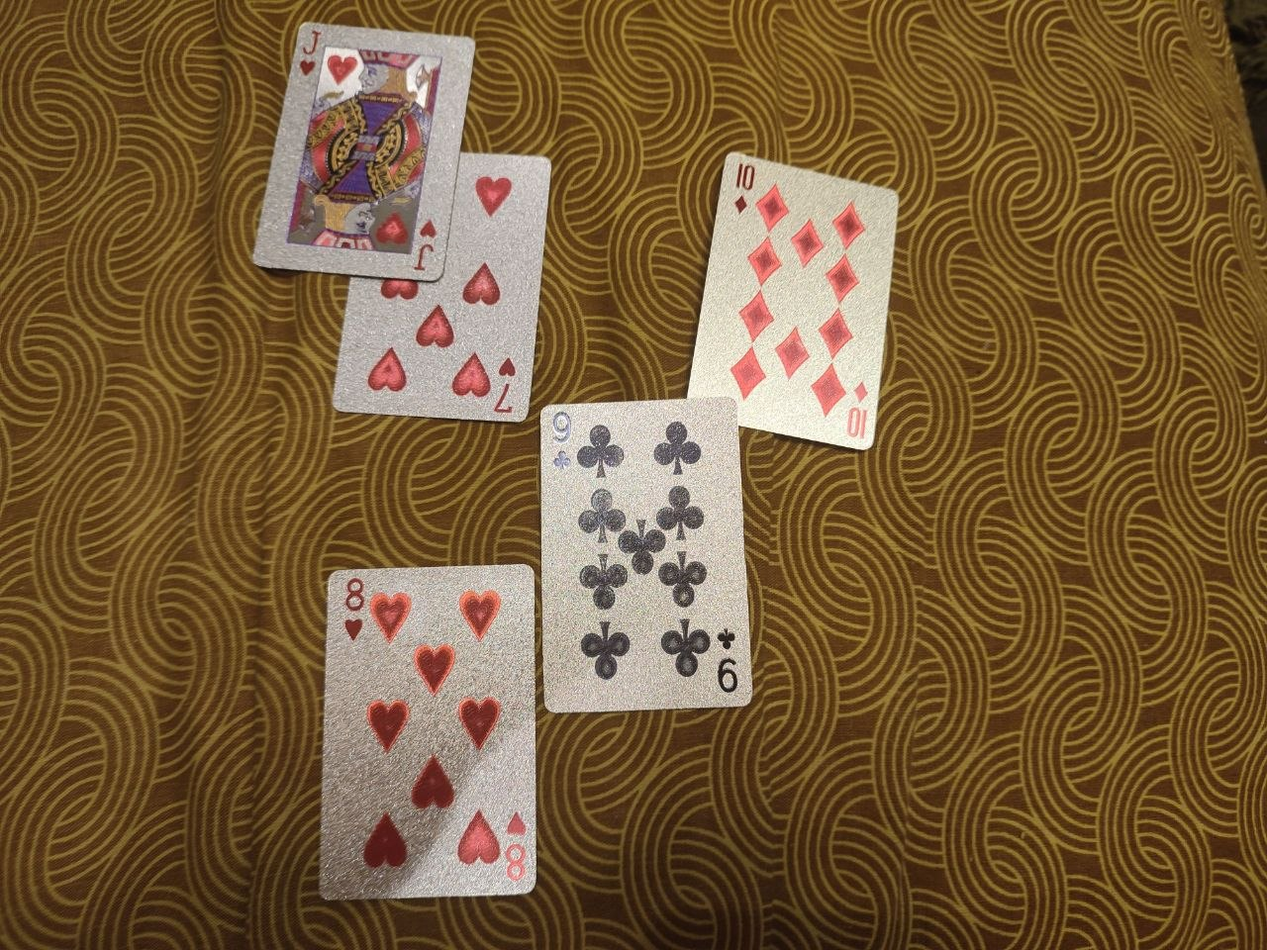10D: (683, 150, 902, 455)
7H: (332, 146, 551, 423)
8H: (314, 560, 540, 905)
9C: (537, 395, 756, 716)
JH: (249, 17, 478, 280)
